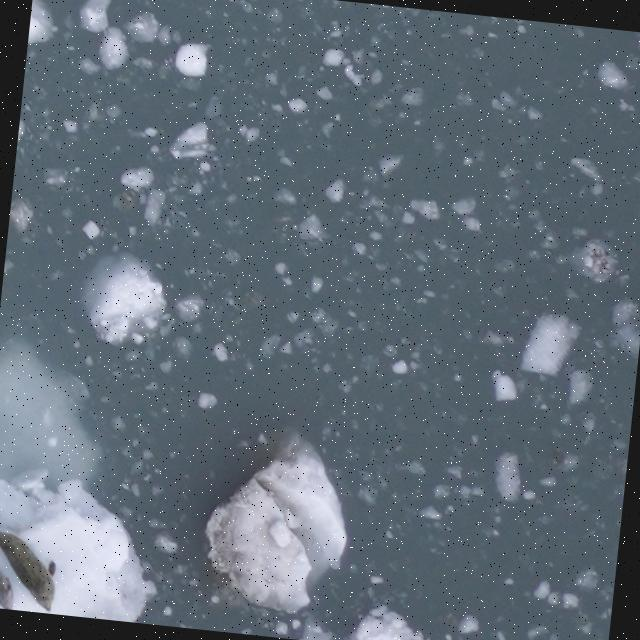seal: (0, 519, 66, 614), (0, 544, 24, 610)
